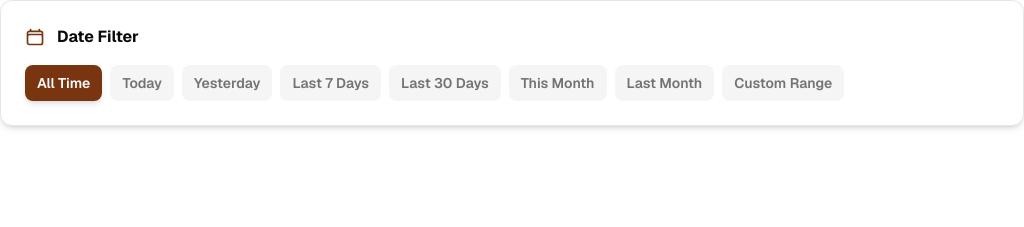
Test: DateRangePicker Component › Custom Date Range › should hide custom inputs when switching to another preset
The width and height of the screenshot is (1024, 227).
// First select custom
Step 1. Click the button "Custom Range" → (783, 83), box [722,65,844,101]
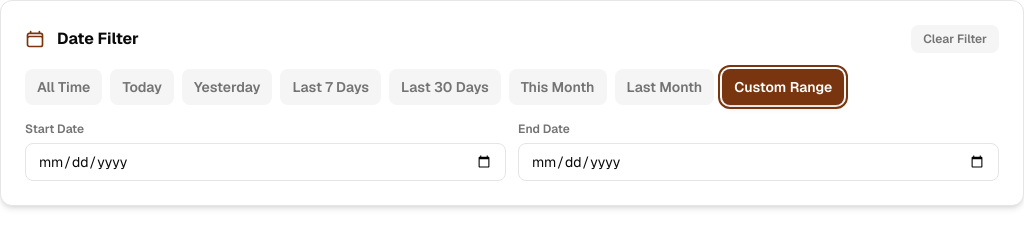
Now the date field labelled "Start Date" is shown, box [25,143,506,181]
// Then select a preset
Step 2. Click the button "Today" → (142, 87), box [110,69,174,105]
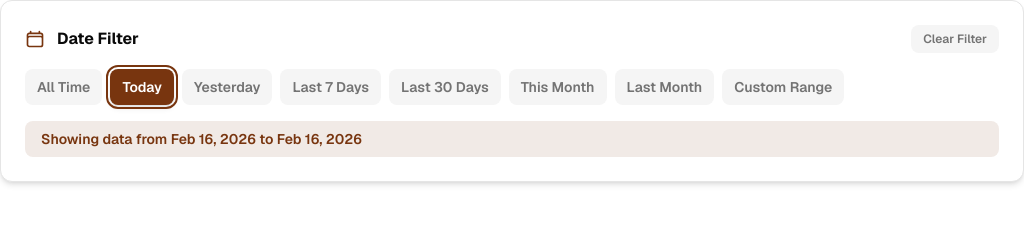
Now the label labelled "Start Date" is gone
